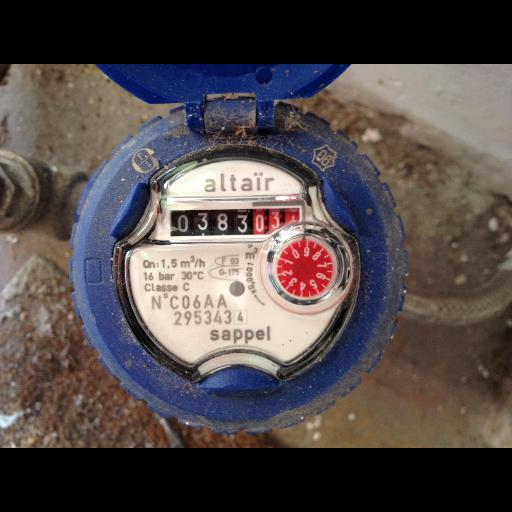0: (171, 210, 193, 236), (254, 209, 269, 235)
1: (283, 208, 299, 227)
3: (193, 210, 214, 236), (233, 209, 254, 235), (268, 208, 284, 234)
8: (213, 209, 234, 236)
border_water_meter_number: (166, 201, 305, 242)
